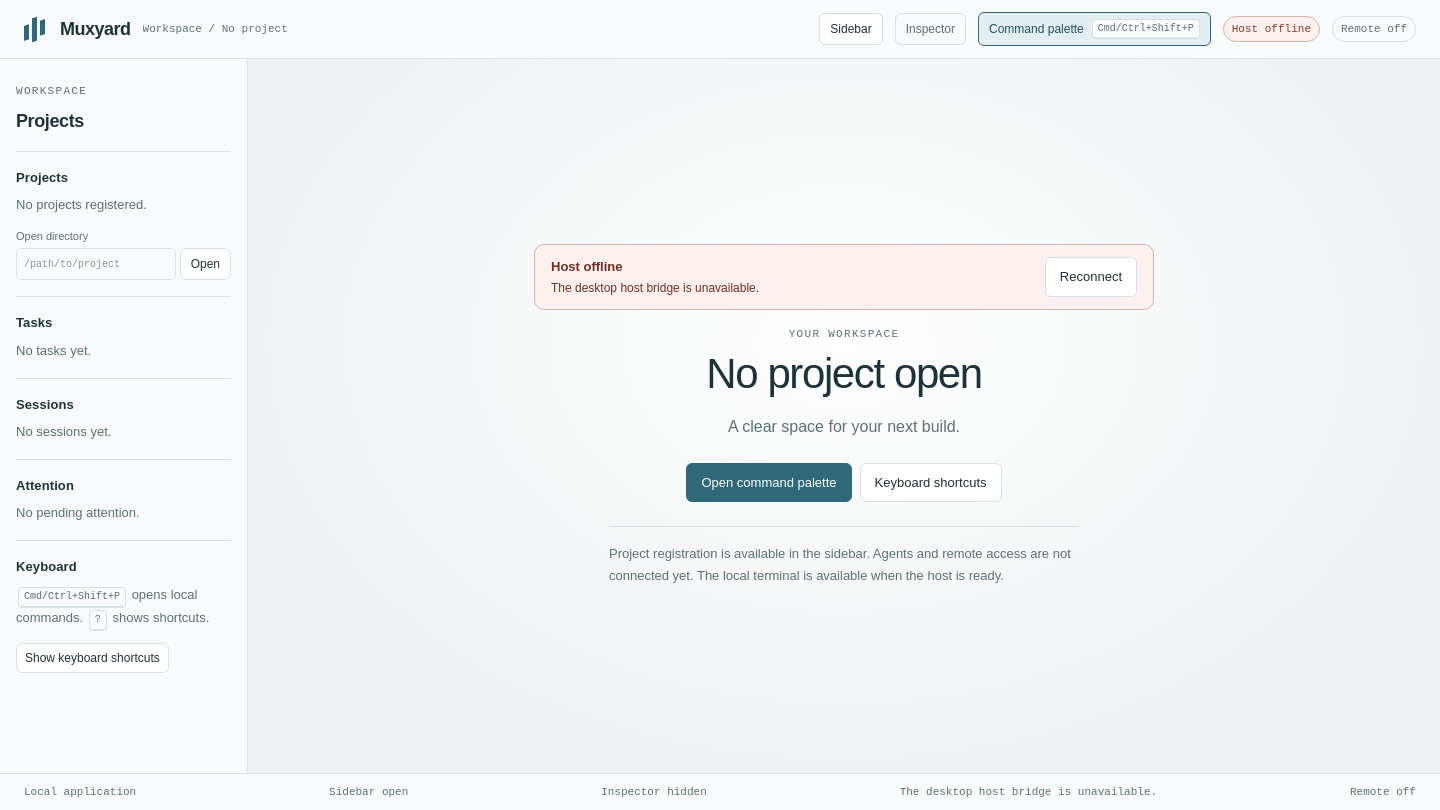
Test: shell keyboard behavior › toggles both side panels and exposes their state
The width and height of the screenshot is (1440, 810).
Click the button with test id "toggle-sidebar": (851, 29) [819,13,883,45]
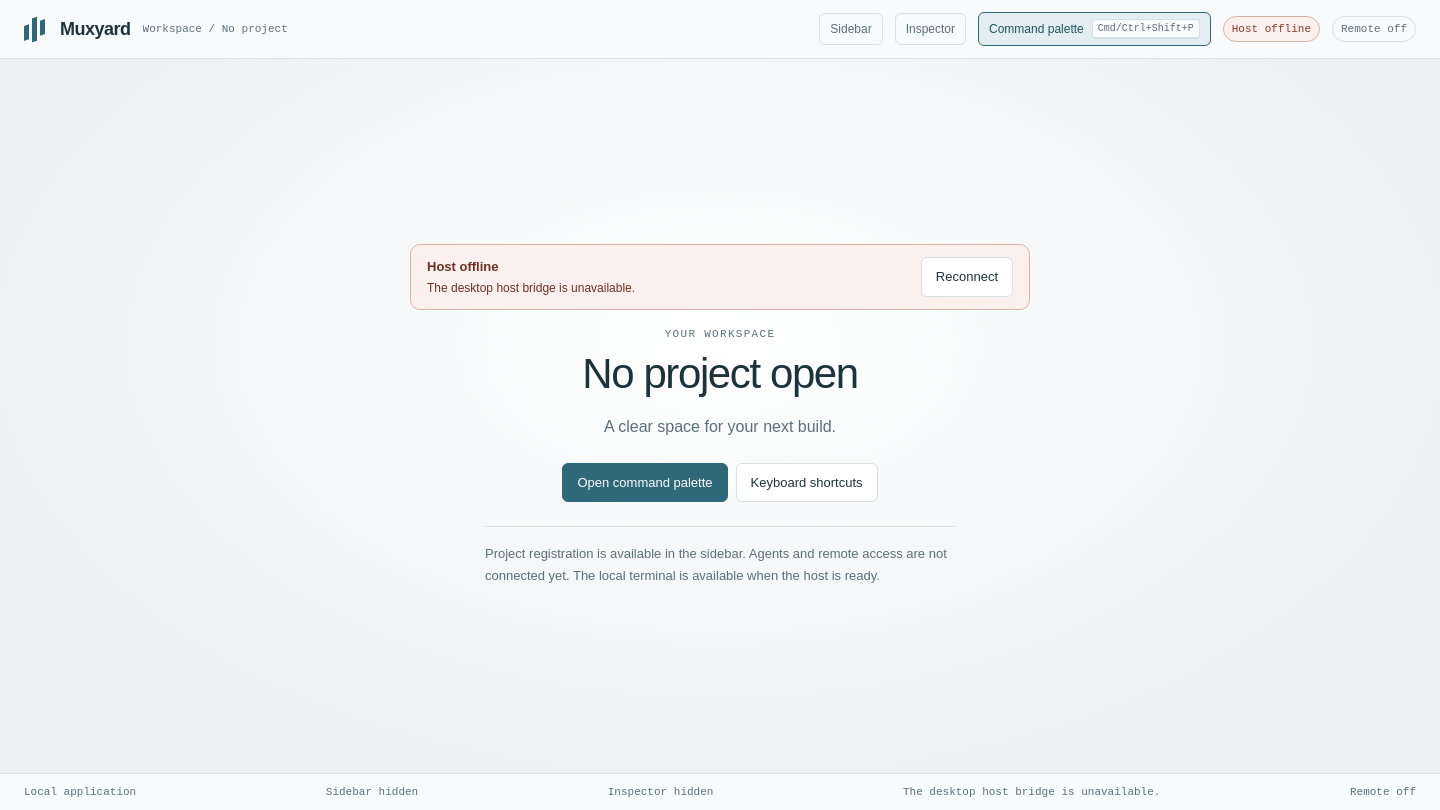
Expected: the element with id "workspace-sidebar" is gone
Expected: the button with test id "toggle-sidebar" is collapsed
Click the button with test id "toggle-sidebar": (851, 29) [819,13,883,45]
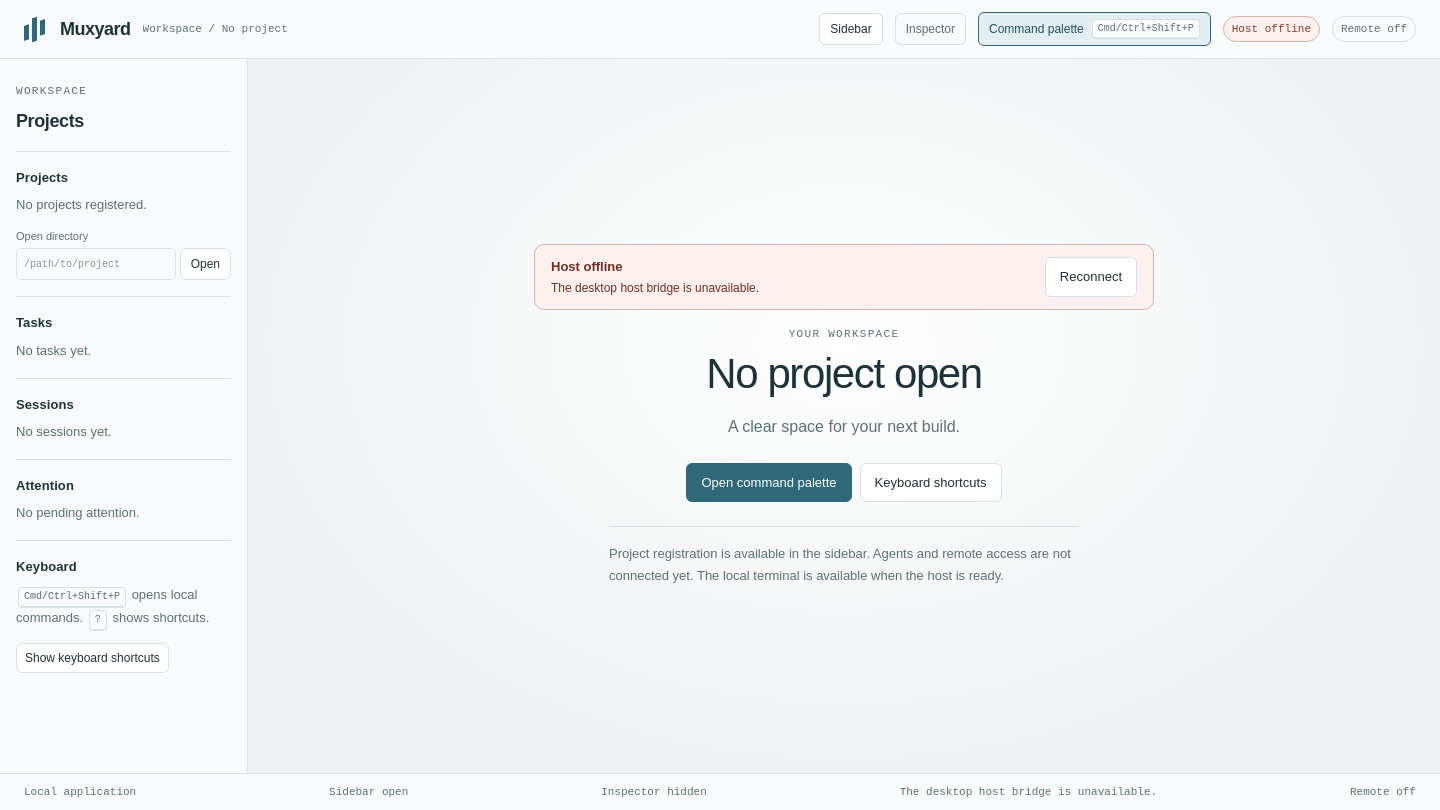
Expected: the element with id "workspace-sidebar" is shown, [0,59,248,772]
Click the button with test id "toggle-inspector": (930, 29) [895,13,966,45]
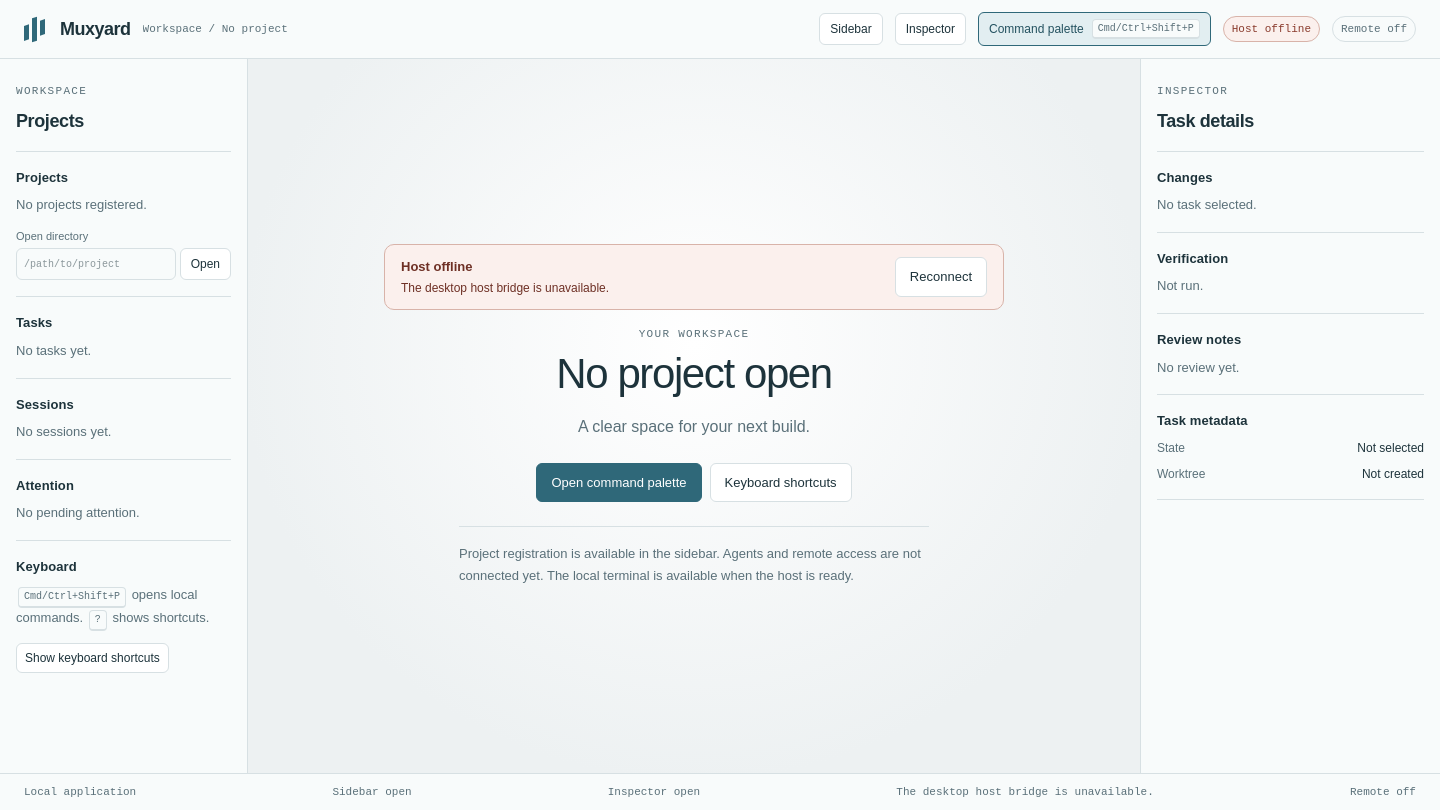
Expected: the element with id "workspace-inspector" is shown, [1140,59,1439,772]
Expected: the button with test id "toggle-inspector" is expanded
Click the button with test id "toggle-inspector": (930, 29) [895,13,966,45]
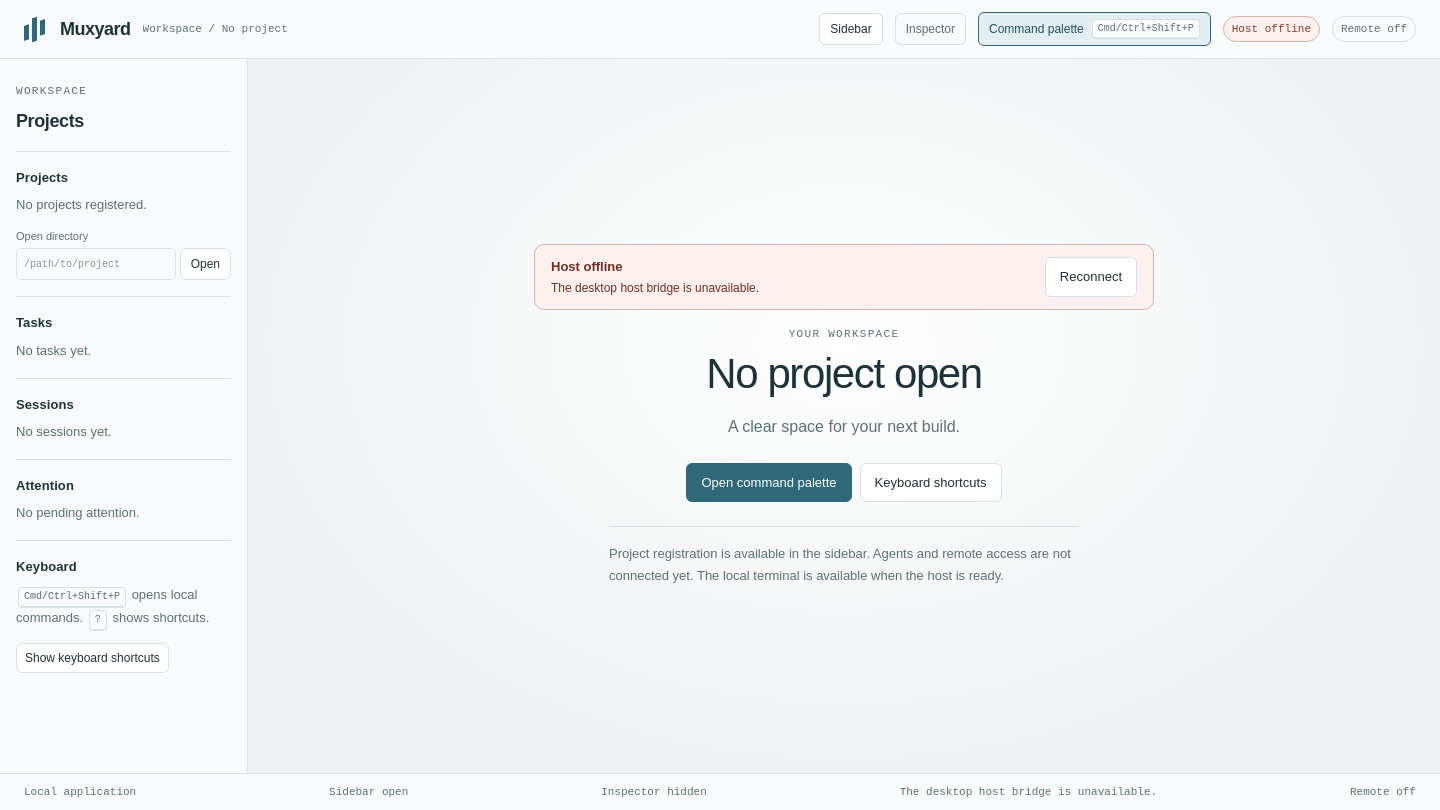
Expected: the element with id "workspace-inspector" is gone
